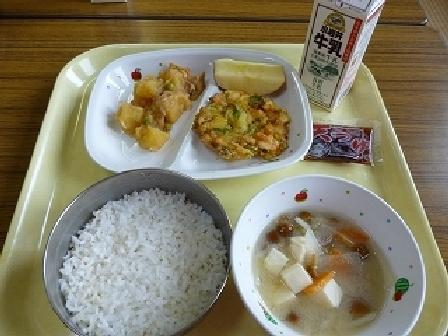Apple: (210, 51, 293, 99)
Milk: (297, 1, 387, 105)
Rice: (49, 170, 225, 327)
Soups: (225, 176, 425, 333)
casserole with meat and vegetables: (200, 89, 289, 159)
vegetable based cooked food: (112, 56, 201, 148)
